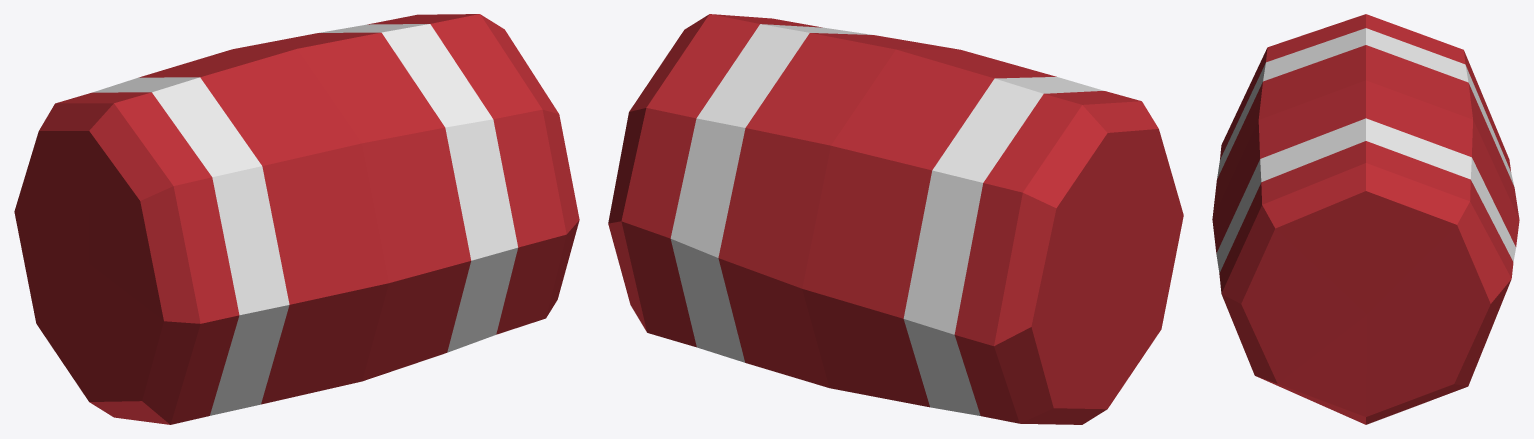
File: En_E_me_X__Plosive_B_Arrel_Shad_ed.fbx
3 views of the same model, side by side, from view 1: azimuth 30°, elevation 25°; view 2: azimuth 150°, elevation 25°; view 3: azimuth 270°, elevation 25° (orthographic). The views are drawn at different scales.
Parts seen in each view (by area): view 1: E_Xplosive_B_Arrel; view 2: E_Xplosive_B_Arrel; view 3: E_Xplosive_B_Arrel.
Part boxes in pixels (<box>): E_Xplosive_B_Arrel: <box>14,14,579,424</box>; E_Xplosive_B_Arrel: <box>608,14,1183,424</box>; E_Xplosive_B_Arrel: <box>1212,14,1519,424</box>.
Size of the model in its own units: 133 by 102 by 102.
